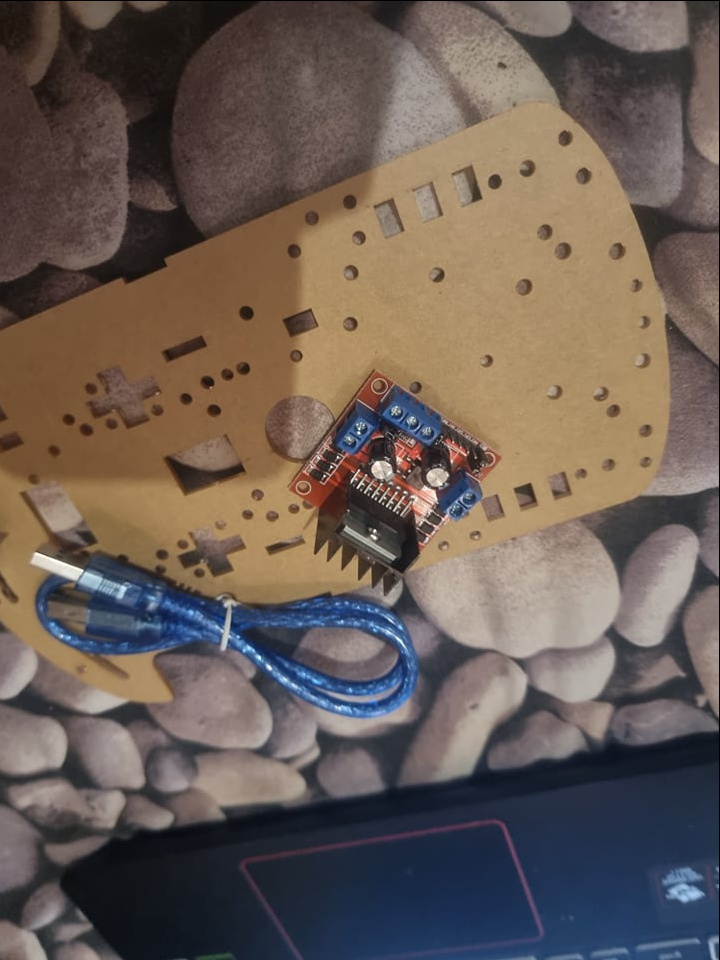MOTOR: (288, 365, 503, 592)
